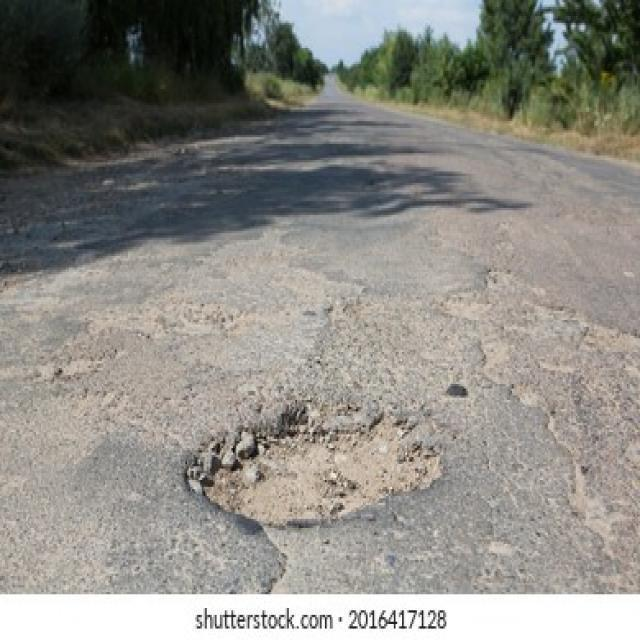Pothole: (183, 403, 443, 530)
